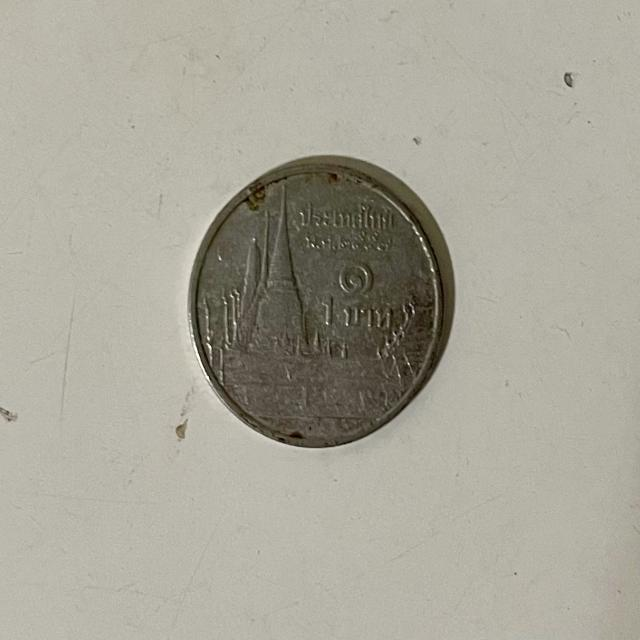1 Bath: (182, 156, 451, 459)
